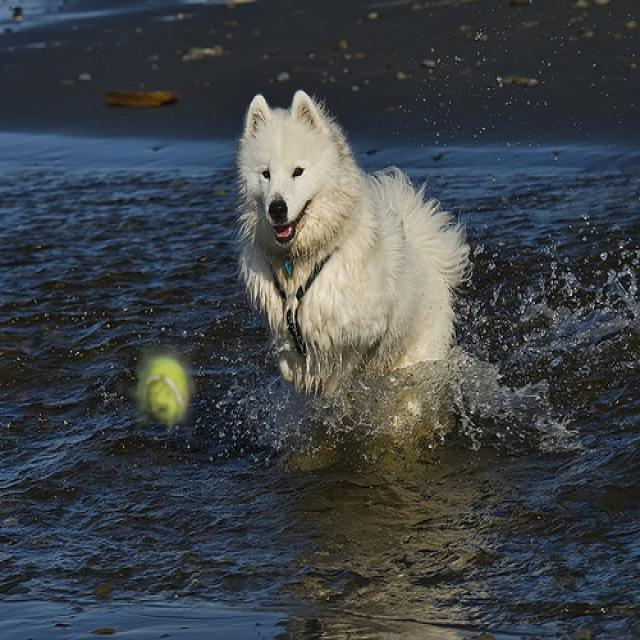dog-samoyed: (230, 80, 475, 392)
